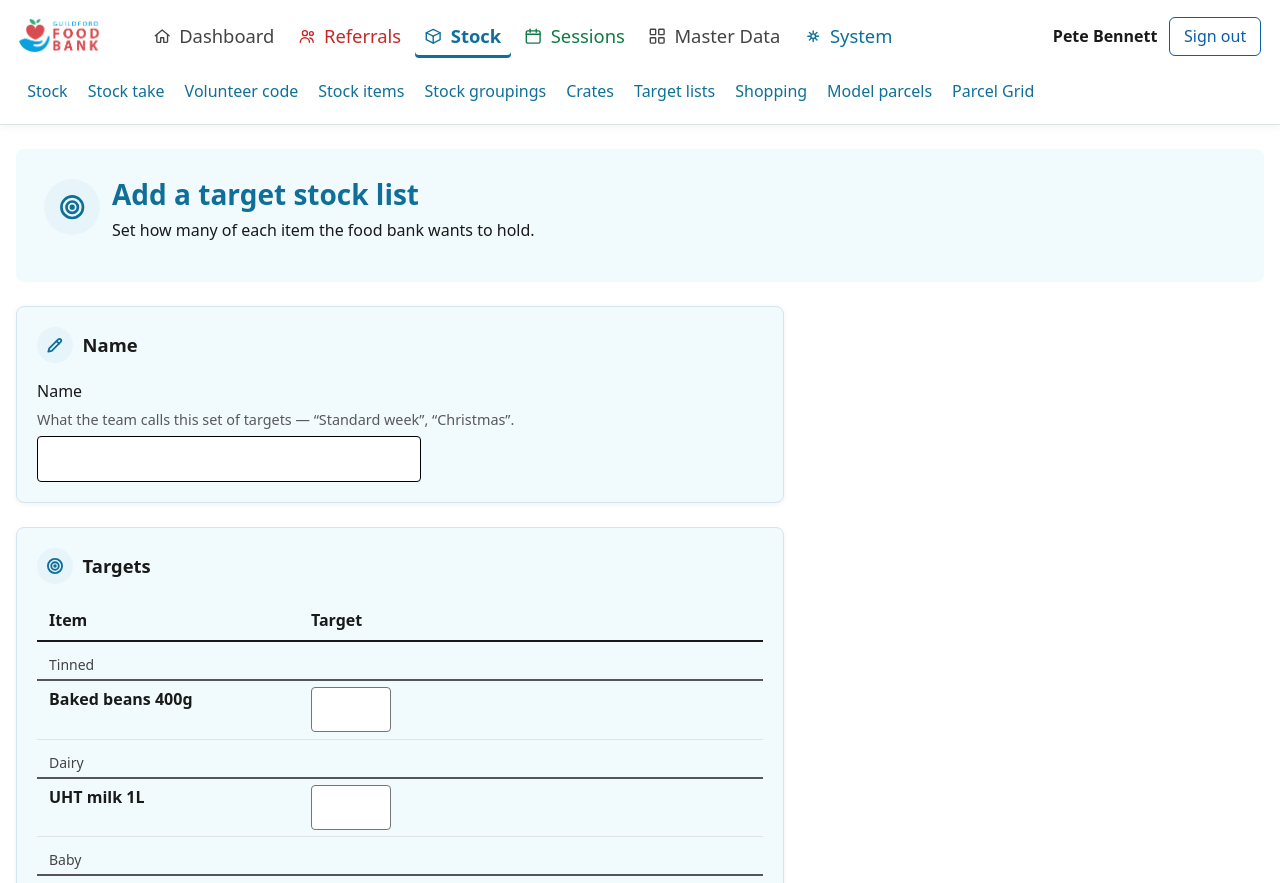
adding a target stock list › refuses a name already in use and links to that list
Step 1. Type "Standard week" into the field labelled "Name" → (229, 459), box [37,436,421,482]
(page scrolled)
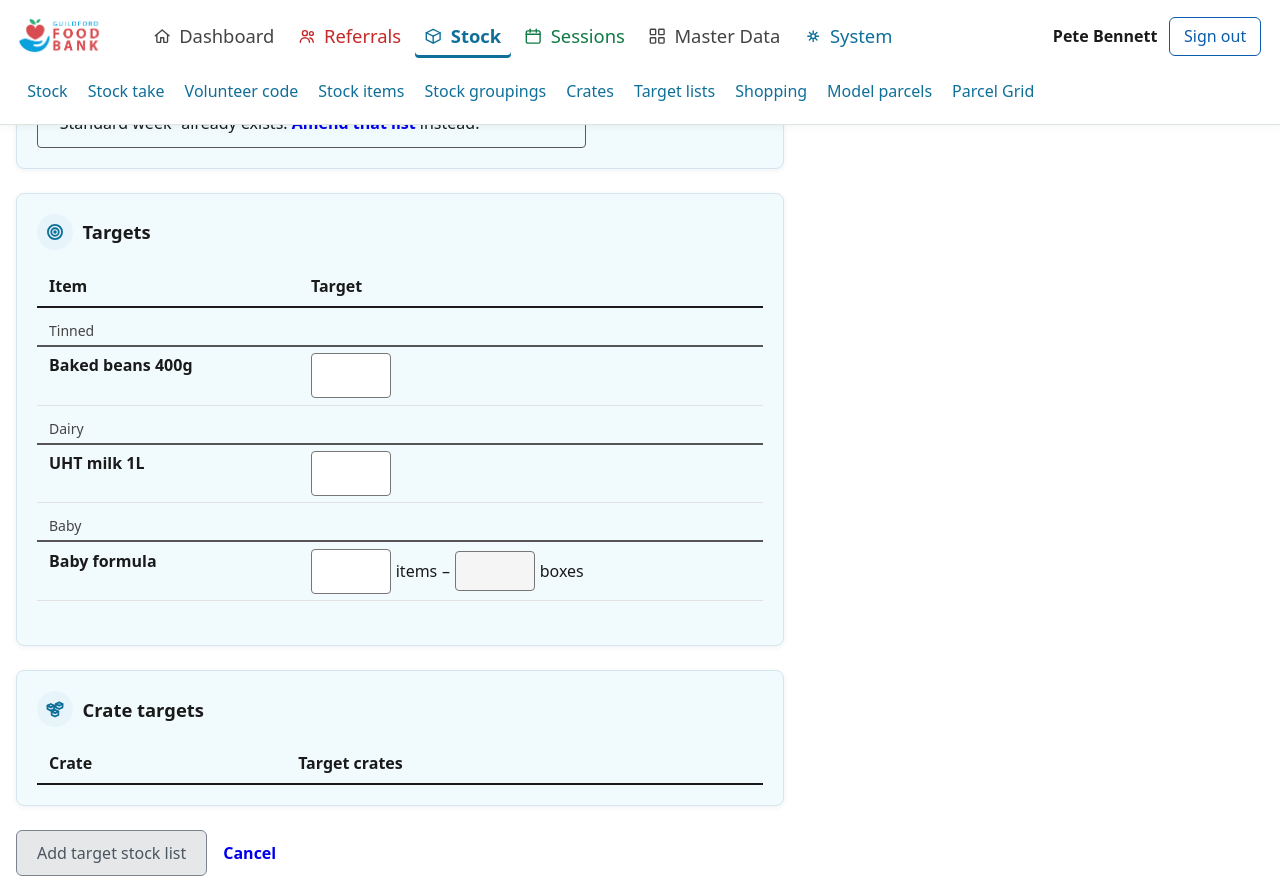
Result: the text "“Standard week” already exists. Amend that list instead." is shown at [37,98,586,148]
